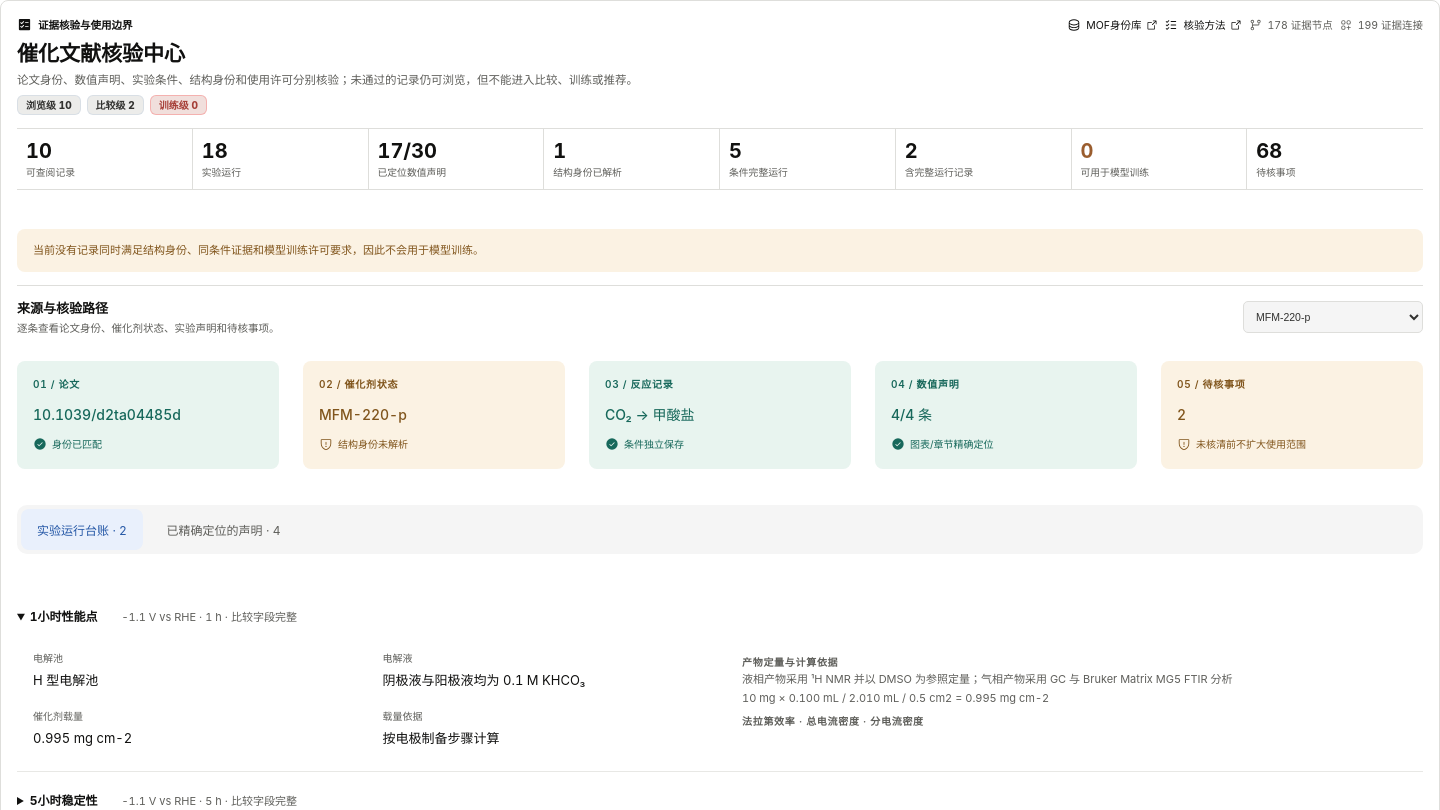
Test: CatalysisVerificationCenter › keeps runs and located claims in separate reading views
The image size is (1440, 810).
Click the button "已精确定位的声明 · 4". click: (224, 529)
box: [151,509,297,550]
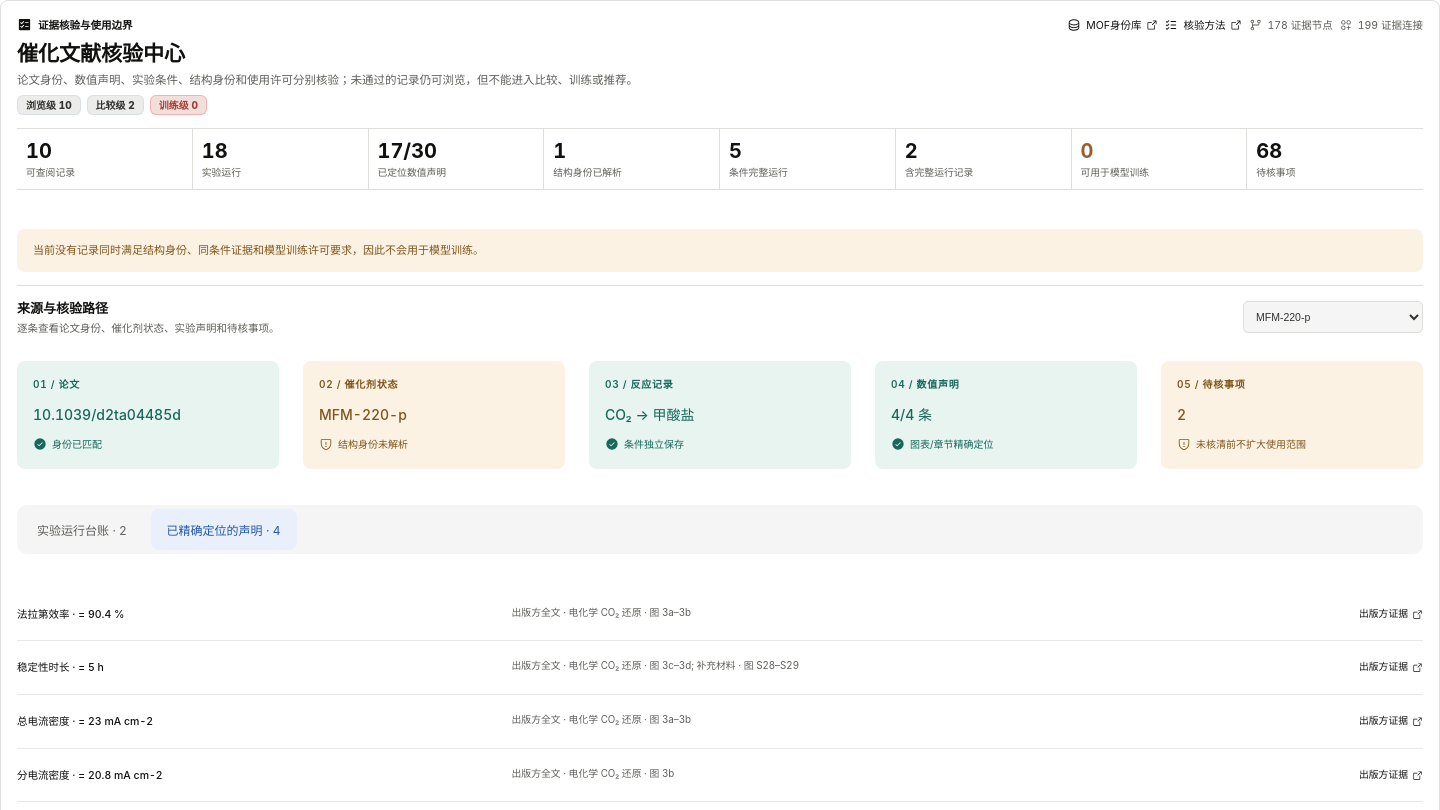
Now the element with test id "catalysis-l4-claim-ledger" is shown, box [17,564,1423,802]
Click the button "实验运行台账 · 2". click: (82, 529)
box: [21,509,143,550]
(page scrolled)
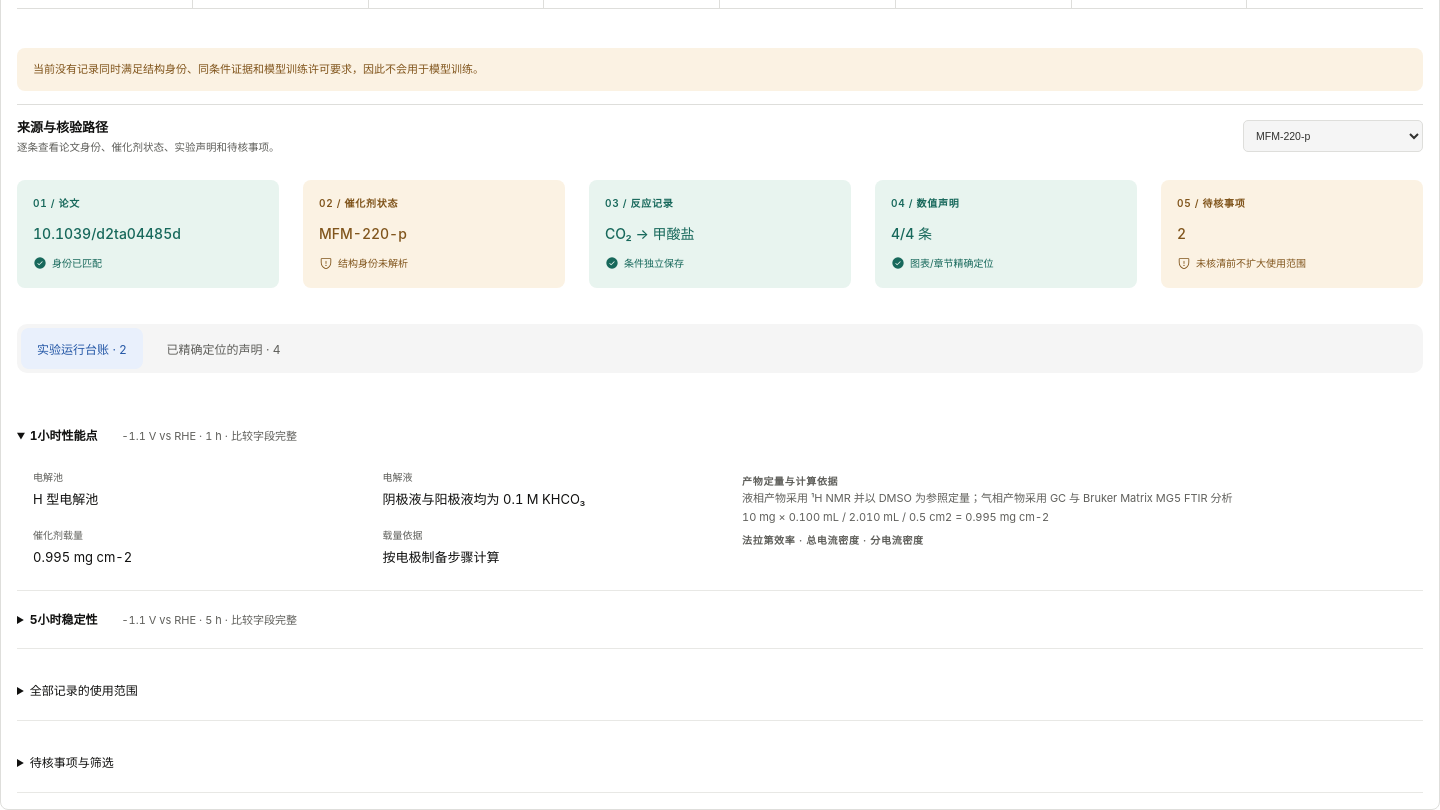
Now the element with test id "catalysis-experiment-run-ledger" is shown, box [17,407,1423,649]
